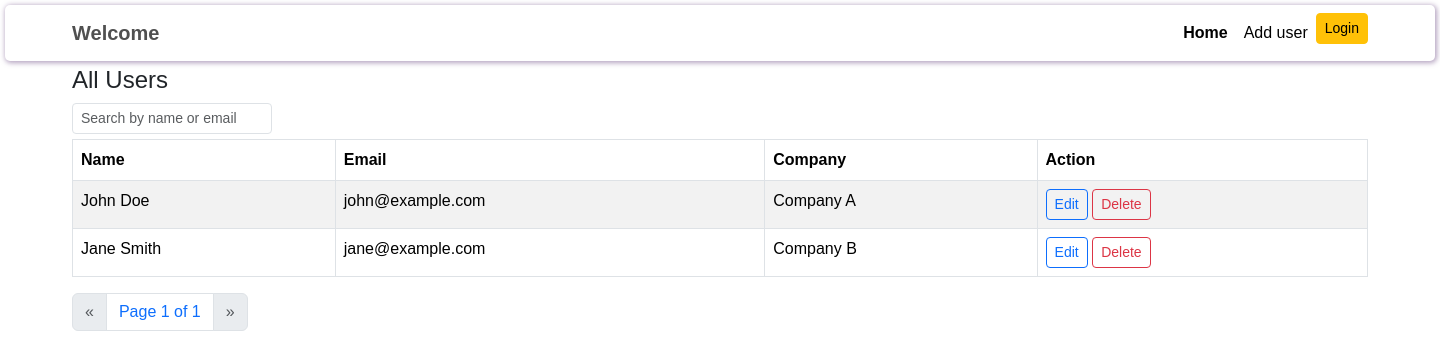
it: Users Component › filters users based on search query
Step 1. Type "john" into the field with placeholder "Search by name or email" → (172, 118), box [72,103,272,134]
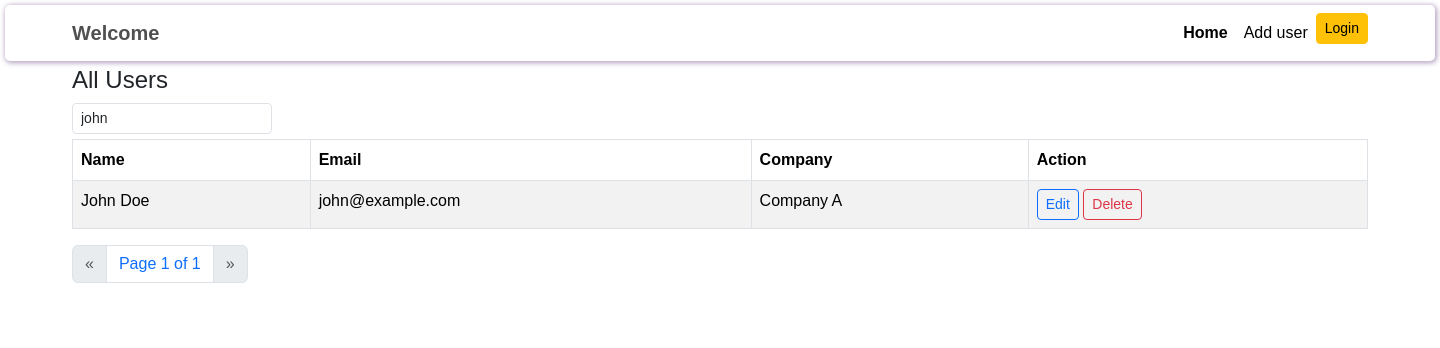
Expected: the text "John Doe" is shown, [72,180,310,228]
Expected: the text "Jane Smith" is gone
